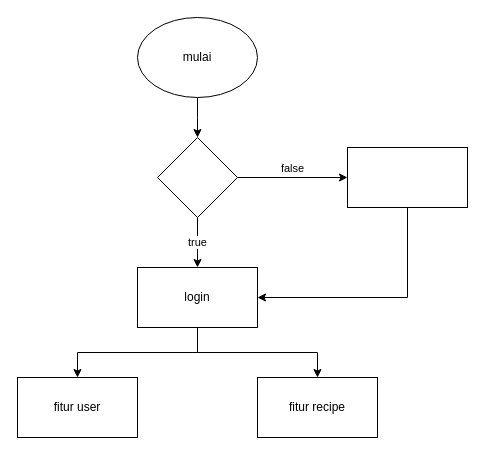
Image size: 485x455. Some labels were removed from this diagram. The centre of each missing label's shape, as x and y in pixels:
registrasi: pixel 407 177
sudah mendaftar?: pixel 197 177
